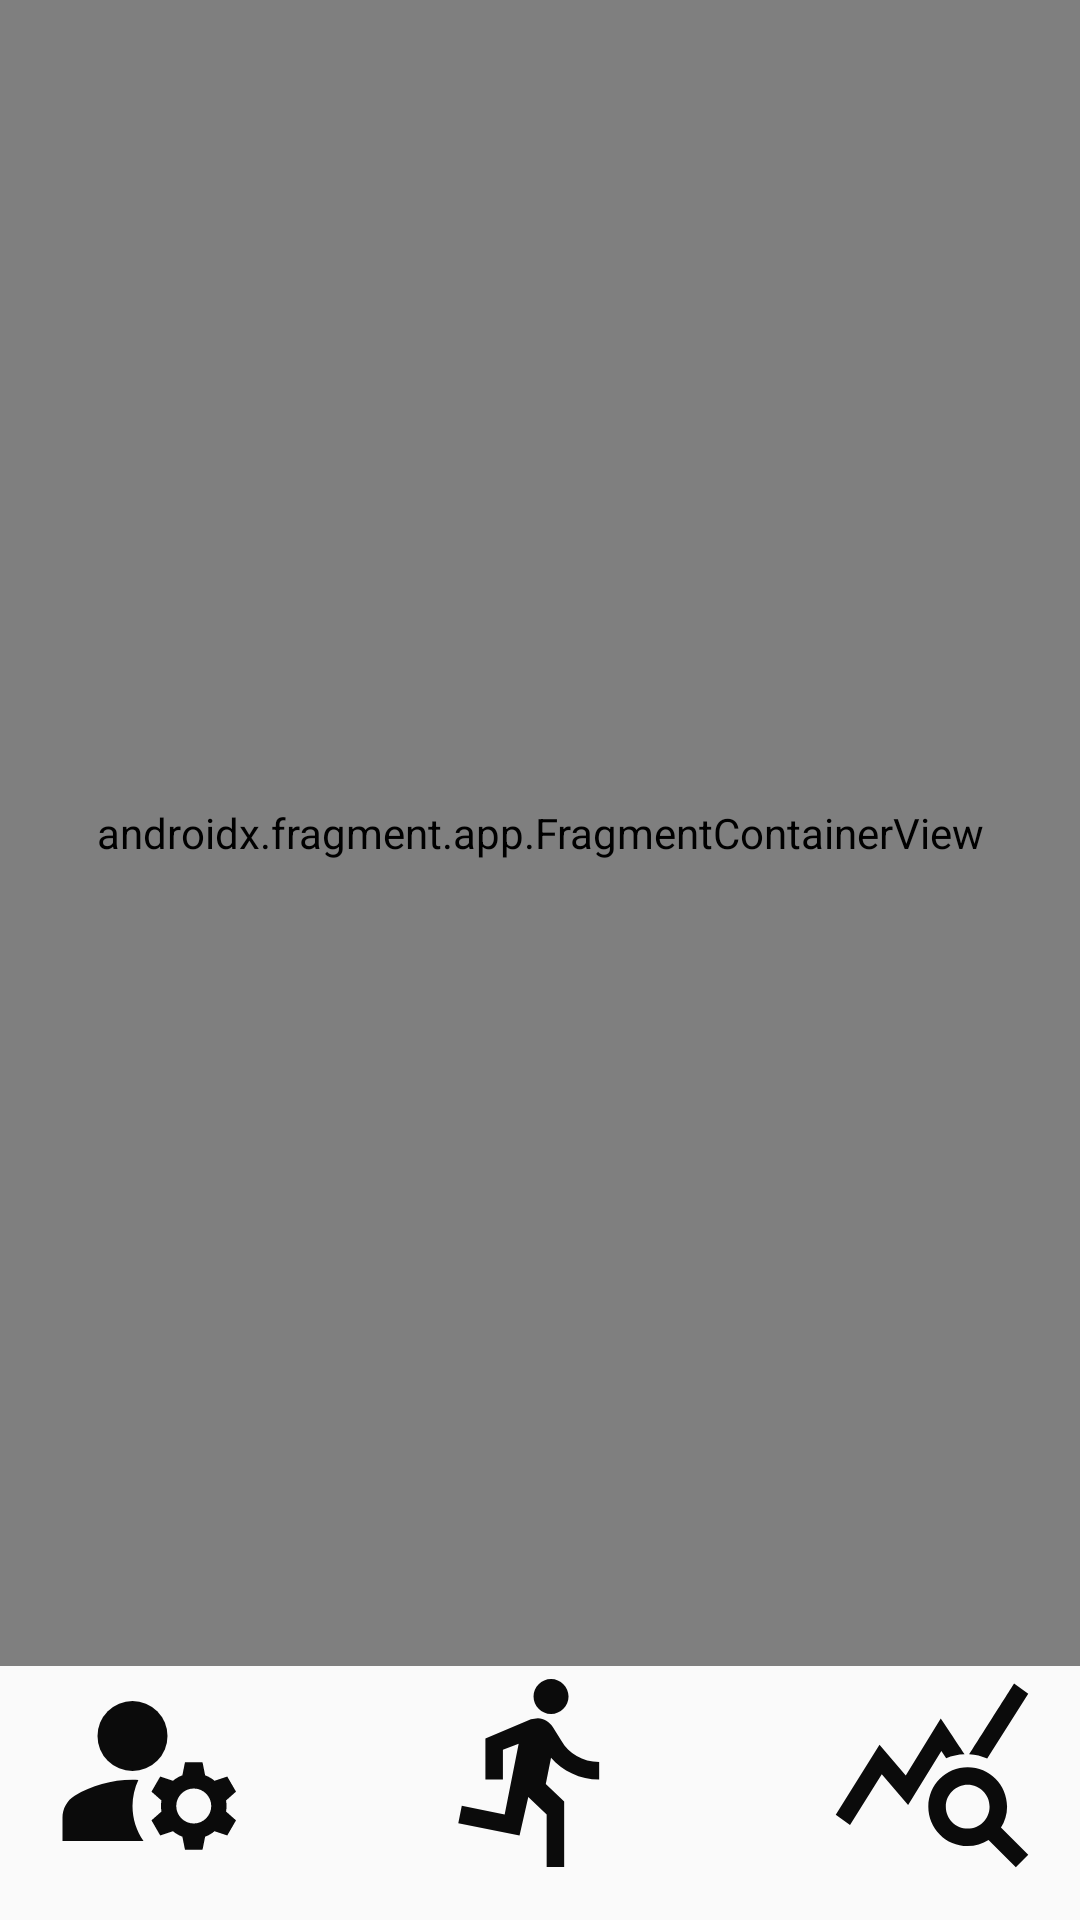

Icons on this 1080×1920 Android screen, each with its box as detection(x1, y1, x2, y2):
directions run: detection(458, 1679, 600, 1867)
manage accounts: detection(62, 1701, 236, 1850)
query stats: detection(836, 1683, 1028, 1867)
